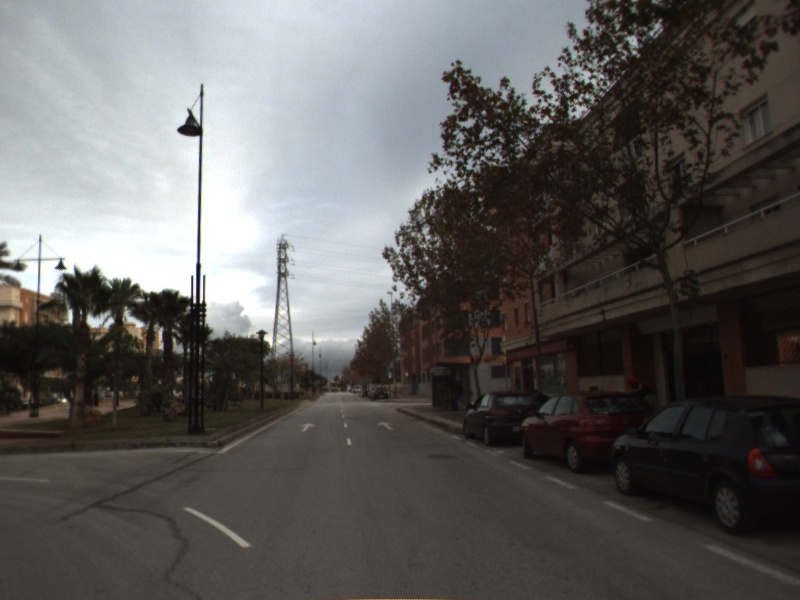STRAIGHT: (298, 420, 318, 434), (375, 420, 396, 432)
